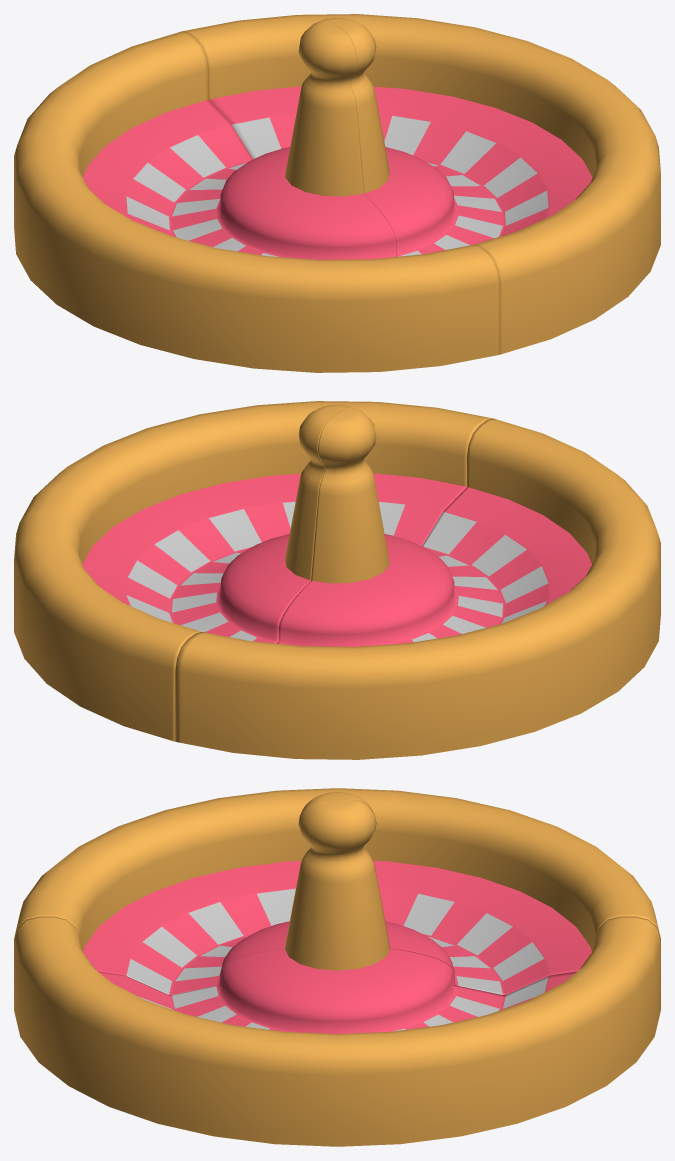
The model's file is SM_Roulette_02c.fbx.
3 views of the same model, one above another, from view 1: azimuth 30°, elevation 25°; view 2: azimuth 150°, elevation 25°; view 3: azimuth 270°, elevation 25° (orthographic).
Visible parts, largest first — view 1: Roulette_01, Roulette_02; view 2: Roulette_01, Roulette_02; view 3: Roulette_02, Roulette_01.
Boxes of the visible parts, <box> form: Roulette_01: <box>14,19,499,372</box>; Roulette_02: <box>182,14,660,354</box>; Roulette_01: <box>175,406,660,759</box>; Roulette_02: <box>14,401,492,741</box>; Roulette_02: <box>14,800,660,1146</box>; Roulette_01: <box>14,788,660,994</box>.
Size of the model in its own units: 56.44 by 20.16 by 56.44.
